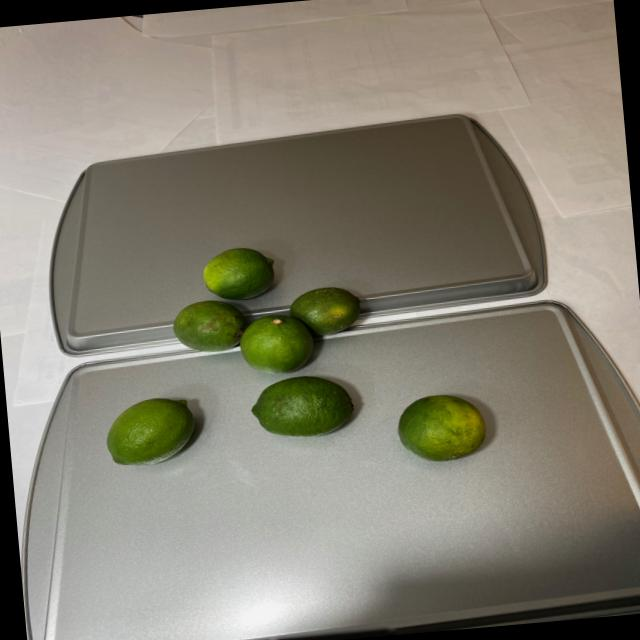lemon: (90, 225, 495, 488)
